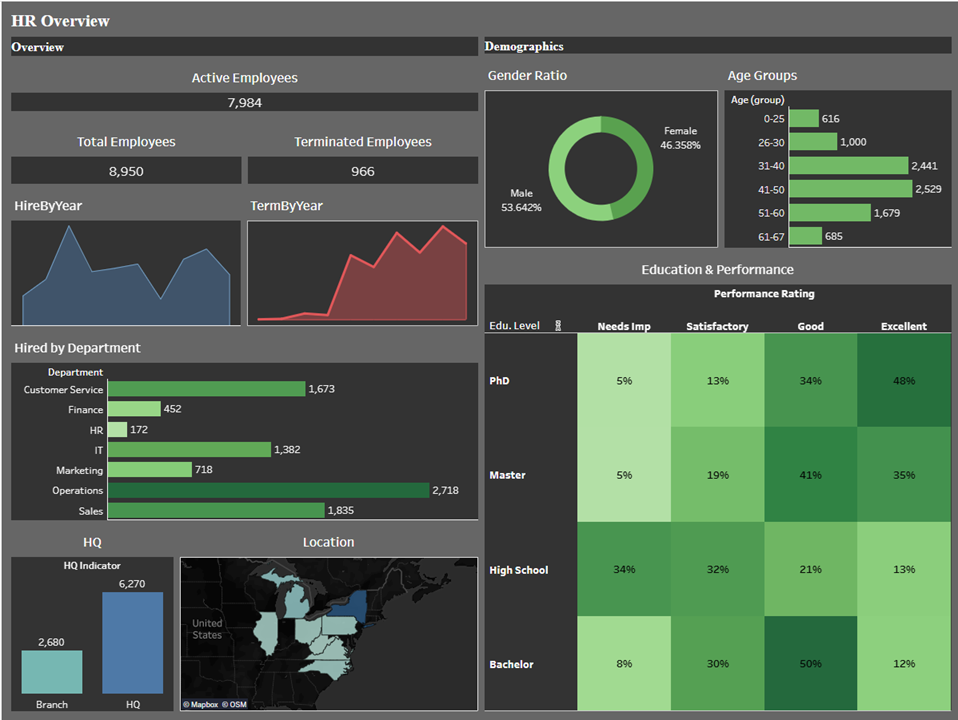

What the dashboard file says about the page in this screenshot:
{"tool":"tableau","page":{"name":"Dashboard 1","canvas":[1200,900],"ordinal":0},"visuals":[{"type":"text","box":[8,8,1184,32]},{"type":"text","box":[8,40,592,32]},{"type":"text","box":[600,40,592,32]},{"type":"worksheet","title":"Active Employees","mark":"Automatic","box":[8,72,592,80]},{"type":"worksheet","title":"Gender Ratio","mark":"Pie","rows":["Calculation_0862341785825290","Calculation_0862341785849868"],"box":[600,72,300,240]},{"type":"worksheet","title":"Age Groups","mark":"Automatic","cols":["Employee_ID"],"box":[900,72,292,240]},{"type":"worksheet","title":"Total Employees","mark":"Automatic","box":[8,152,296,80]},{"type":"worksheet","title":"Terminated Employees","mark":"Automatic","box":[304,152,296,80]},{"type":"worksheet","title":"HireByYear","mark":"Area","rows":["Employee_ID"],"cols":["Hiredate"],"box":[8,232,281.4,178]},{"type":"worksheet","title":"TermByYear","mark":"Area","rows":["Calculation_0862341770194945","Calculation_0862341770194945"],"cols":["Termdate"],"box":[289.4,232,310.5,178]},{"type":"worksheet","title":"Education & Performance","mark":"Square","rows":["Education Level"],"cols":["Performance Rating"],"box":[600,312,592,580]},{"type":"worksheet","title":"Hired by Department","mark":"Automatic","rows":["Department"],"cols":["Employee_ID"],"box":[8,410,592,238]},{"type":"worksheet","title":"HQ","mark":"Automatic","rows":["Employee_ID"],"cols":["Calculation_0862341782167555"],"box":[8,648,211,244]},{"type":"worksheet","title":"Location","mark":"Multipolygon","box":[219,648,381,244]}]}

Visuals, with their boxes in screenshot pixels (x1, y1, x2, y2), scaled from the page's 1200x900 canvas onto the 958x720 screenshot:
text: left=6, top=6, right=952, bottom=32
text: left=6, top=32, right=479, bottom=58
text: left=479, top=32, right=952, bottom=58
"Active Employees" worksheet: left=6, top=58, right=479, bottom=122
"Gender Ratio" worksheet (Pie marks): left=479, top=58, right=718, bottom=250
"Age Groups" worksheet: left=718, top=58, right=952, bottom=250
"Total Employees" worksheet: left=6, top=122, right=243, bottom=186
"Terminated Employees" worksheet: left=243, top=122, right=479, bottom=186
"HireByYear" worksheet (Area marks): left=6, top=186, right=231, bottom=328
"TermByYear" worksheet (Area marks): left=231, top=186, right=479, bottom=328
"Education & Performance" worksheet (Square marks): left=479, top=250, right=952, bottom=714
"Hired by Department" worksheet: left=6, top=328, right=479, bottom=518
"HQ" worksheet: left=6, top=518, right=175, bottom=714
"Location" worksheet (Multipolygon marks): left=175, top=518, right=479, bottom=714
